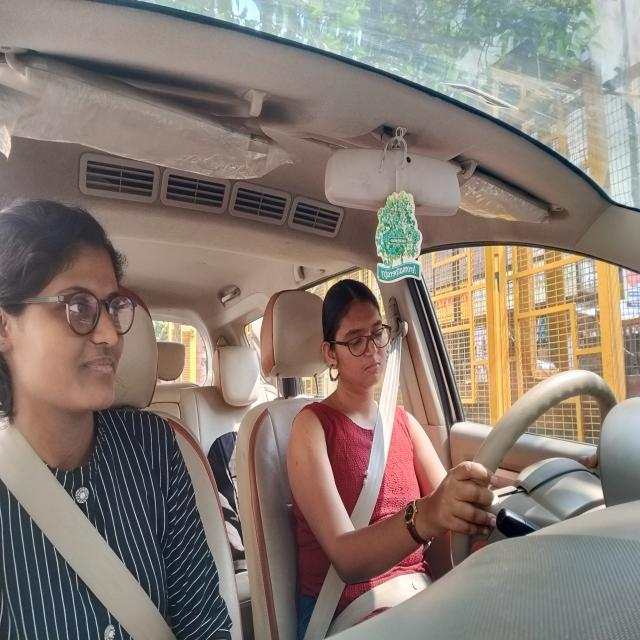drowsy: (320, 279, 393, 394)
person: (1, 192, 136, 436)
